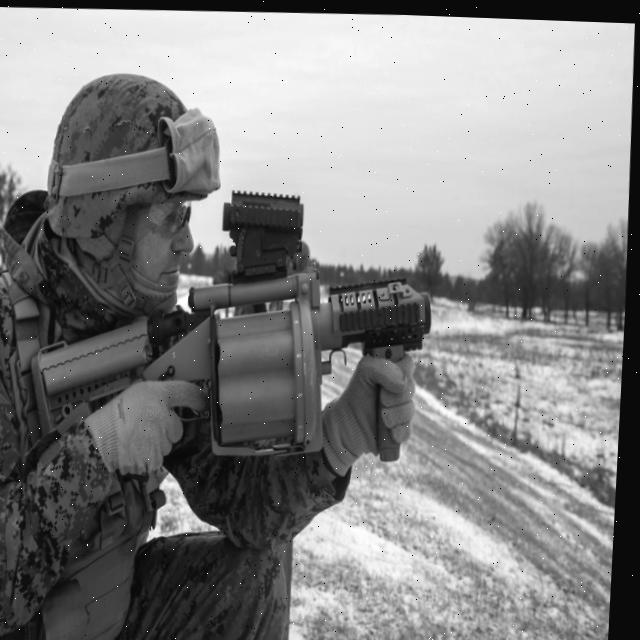rocket: (23, 170, 444, 468)
